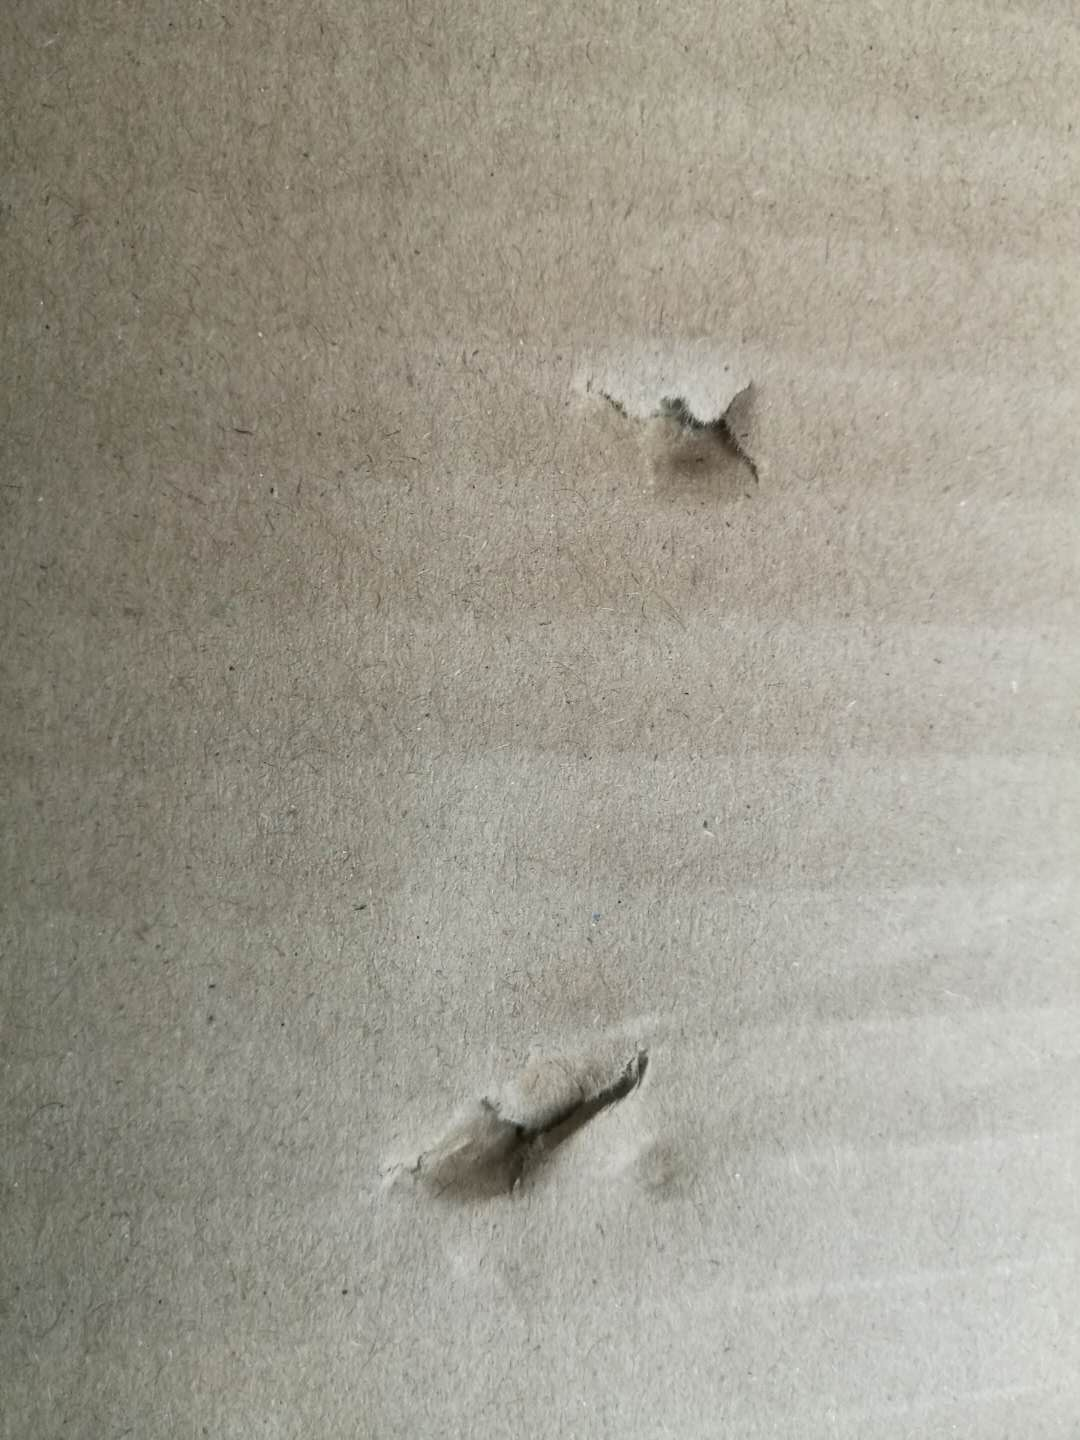defect: (355, 985, 740, 1264), (532, 319, 809, 537)
